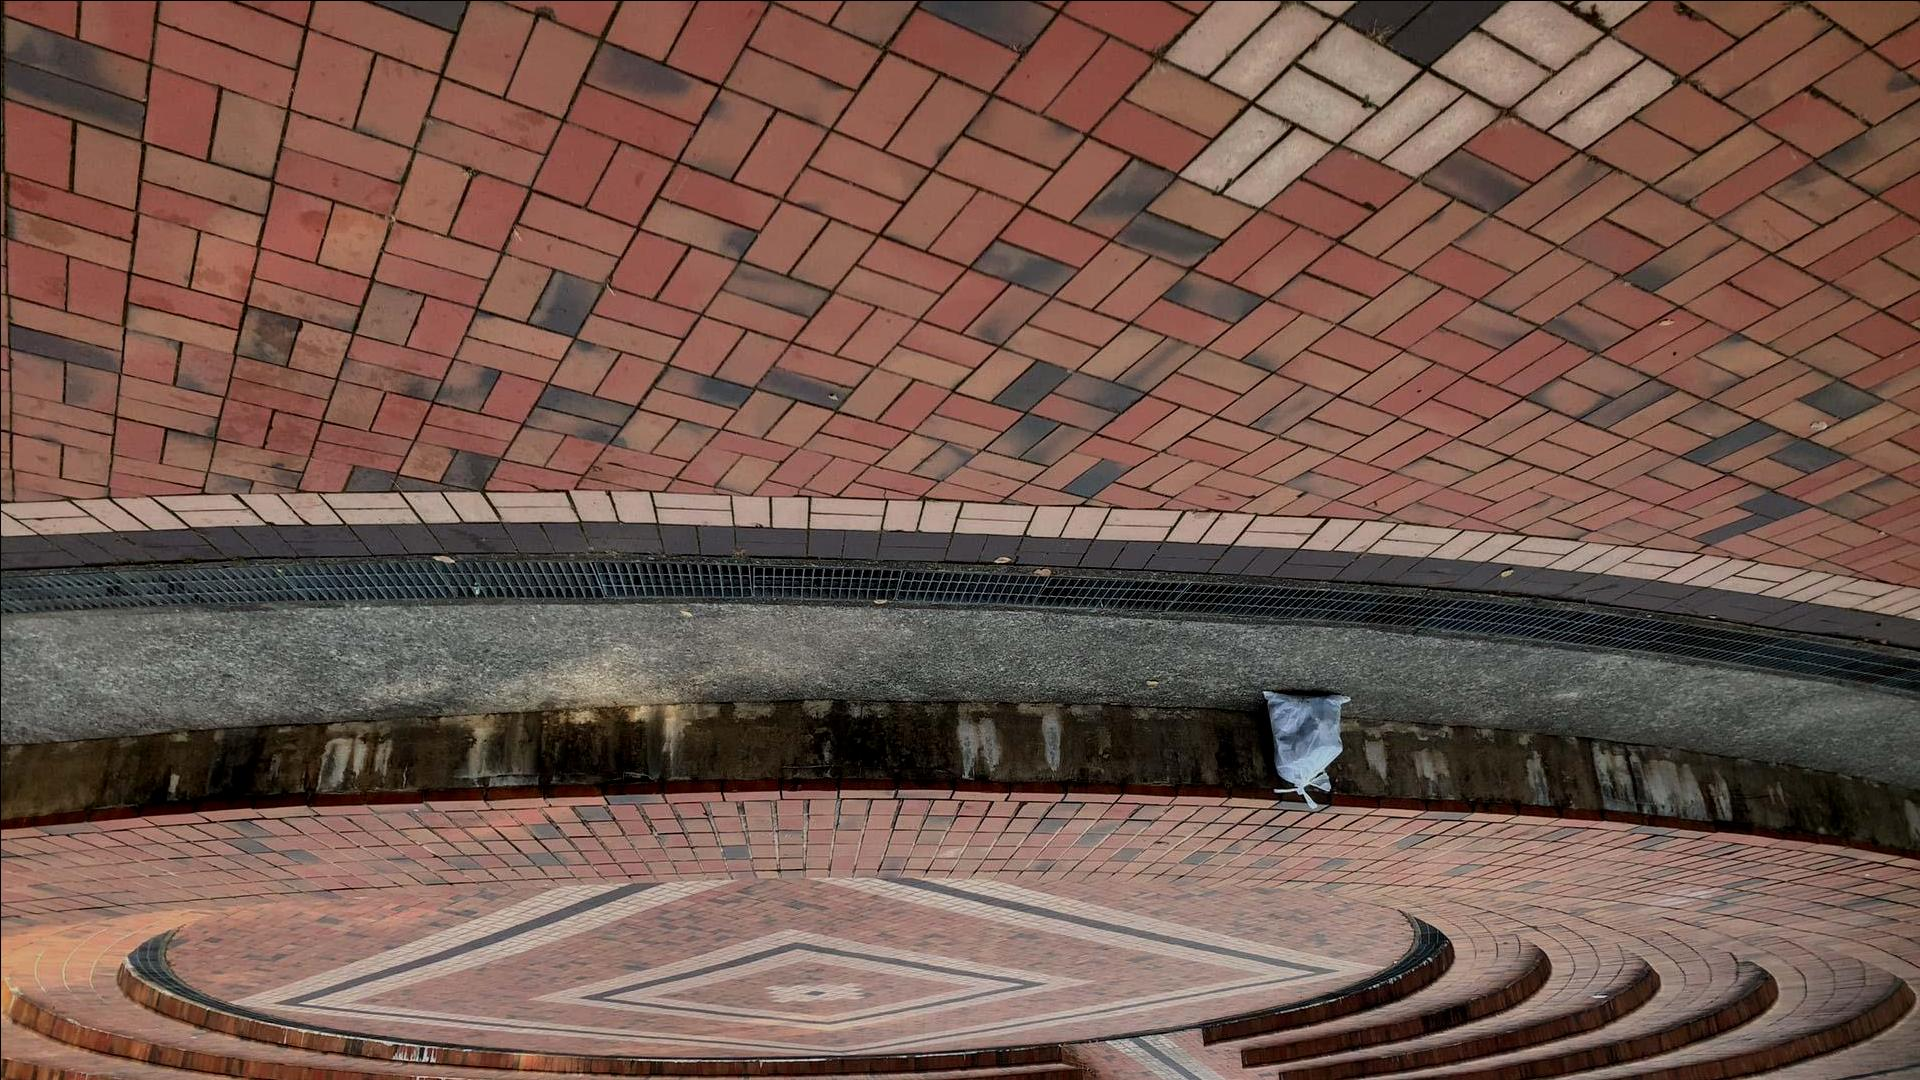white_bag: (1249, 679, 1358, 807)
